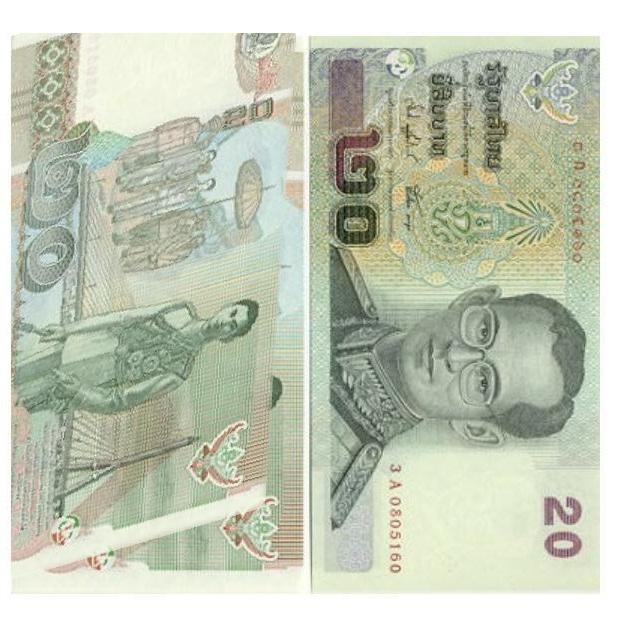20BahtTai: (11, 33, 302, 591)
